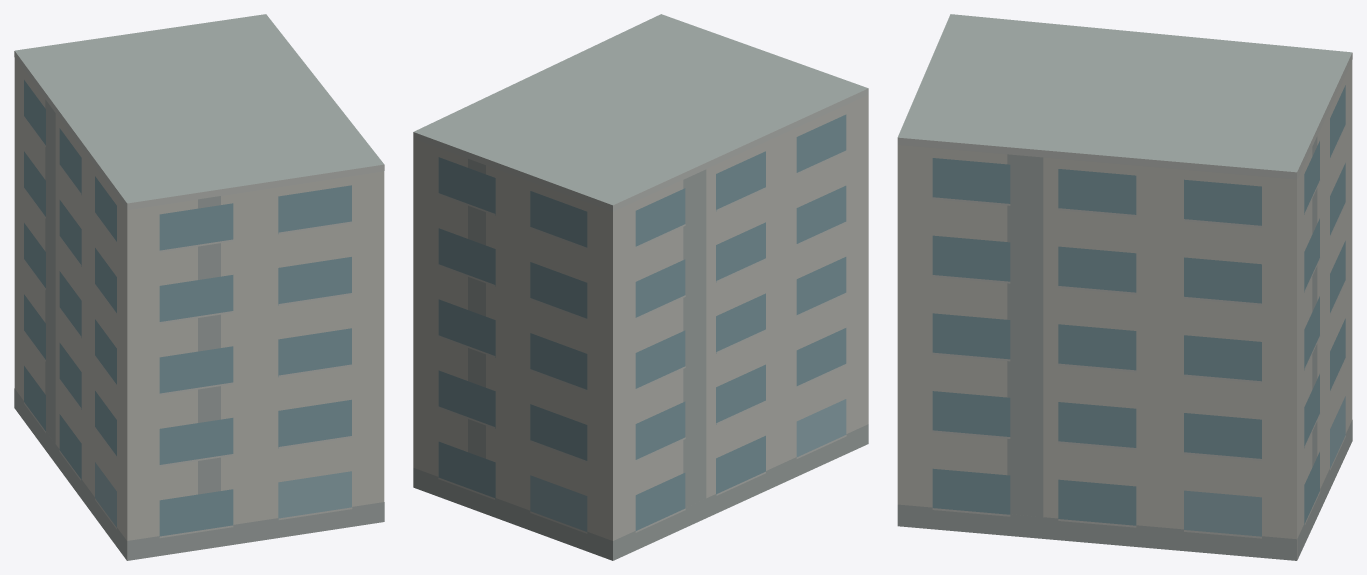
The model's file is survey-upis-32885328.glb.
3 views of the same model, side by side, from view 1: azimuth 30°, elevation 25°; view 2: azimuth 150°, elevation 25°; view 3: azimuth 270°, elevation 25° (orthographic). The views are drawn at different scales.
Parts seen in each view (by area): view 1: survey-upis-32885328.tmp; view 2: survey-upis-32885328.tmp; view 3: survey-upis-32885328.tmp.
Part boxes in pixels (left/top/right/bottom): survey-upis-32885328.tmp: left=14, top=14, right=384, bottom=560; survey-upis-32885328.tmp: left=413, top=14, right=868, bottom=560; survey-upis-32885328.tmp: left=897, top=14, right=1352, bottom=560.
Bounding box in the file's own units: 11.5 × 13.15 × 13.97.
